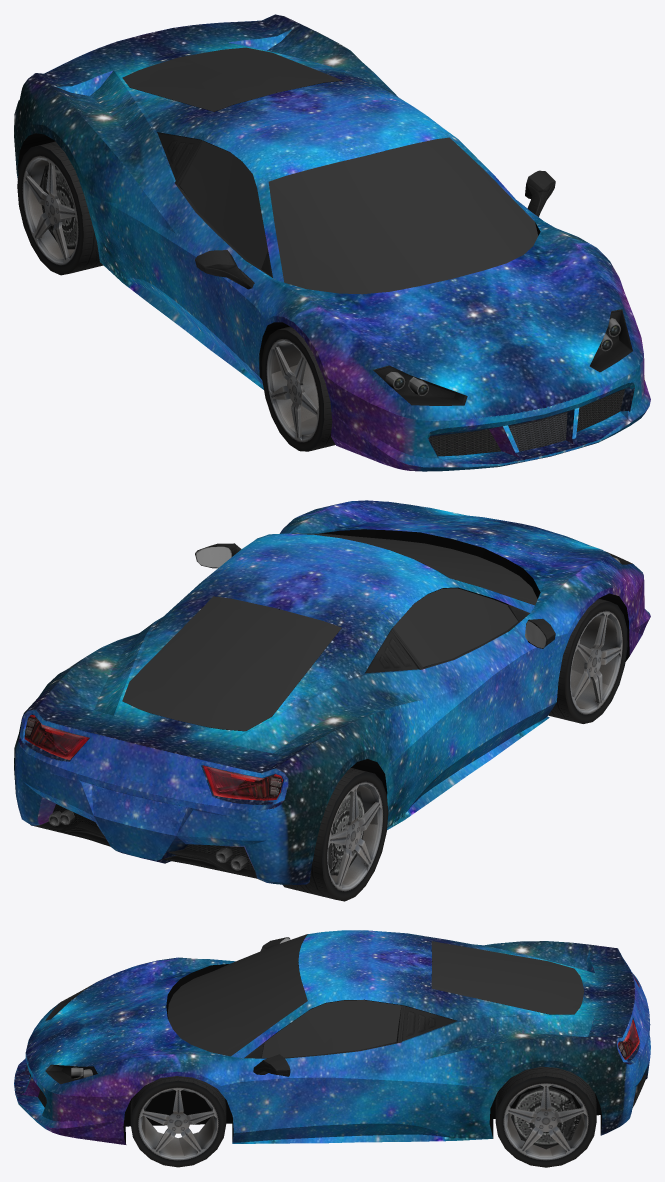
The model's file is car_6.FBX.
The picture shows the model from 3 angles, top to bottom: view 1: azimuth 30°, elevation 25°; view 2: azimuth 150°, elevation 25°; view 3: azimuth 270°, elevation 25°; orthographic projection. The views are drawn at different scales.
Parts seen in each view (by area): view 1: Body_10, Matte_9, Wheel_Back_R, Wheel_R; view 2: Body_10, Matte_9, Wheel_Back_R, Wheel_R, Taillights_9; view 3: Body_10, Matte_9, Wheel_Back_L, Wheel_L, Taillights_9.
Boxes of the visible parts, box(x1,y1,x2,y2) form: Body_10: box(14, 14, 650, 471); Matte_9: box(18, 57, 632, 456); Wheel_Back_R: box(17, 141, 103, 275); Wheel_R: box(261, 326, 335, 451); Body_10: box(14, 500, 650, 884); Matte_9: box(32, 529, 632, 881); Wheel_Back_R: box(282, 768, 388, 901); Wheel_R: box(548, 598, 627, 723); Taillights_9: box(24, 715, 282, 800); Body_10: box(14, 930, 650, 1144); Matte_9: box(29, 934, 645, 1149); Wheel_Back_L: box(495, 1066, 596, 1167); Wheel_L: box(130, 1076, 226, 1167); Taillights_9: box(618, 973, 639, 1059).
Bounding box in the file's own units: 2.21 × 1.22 × 4.54.
2 materials, 2 textured.
